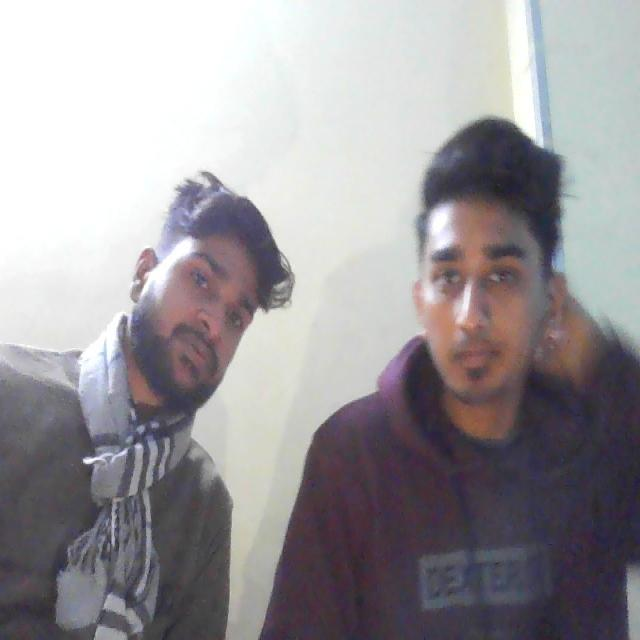real: (409, 128, 568, 429), (140, 177, 262, 408)
